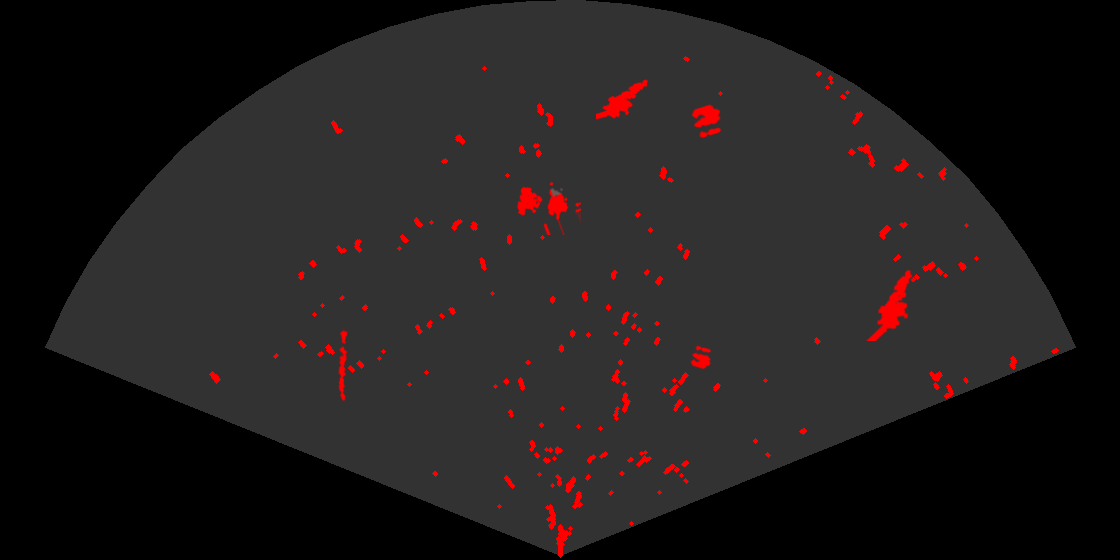ball: (690, 103, 723, 140), (689, 344, 713, 371)
cage: (515, 180, 581, 235)
chain: (337, 328, 349, 401)
frogman: (864, 268, 914, 341), (596, 78, 650, 121)
